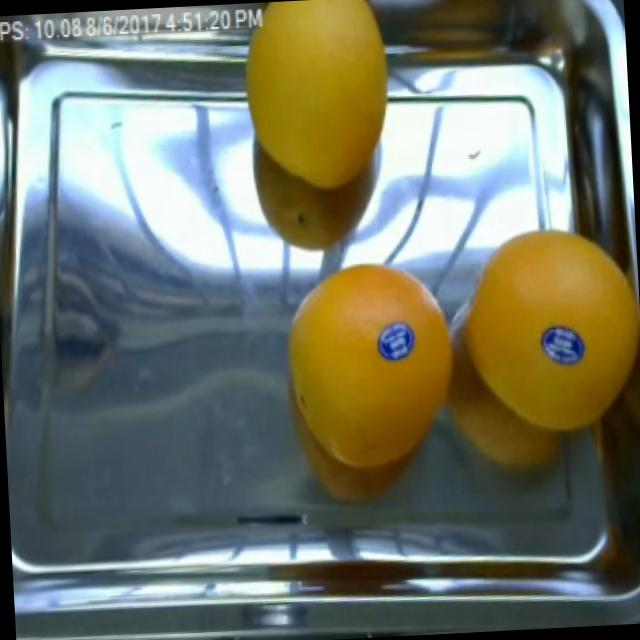Fruit: (270, 326, 472, 530), (534, 314, 592, 379)
